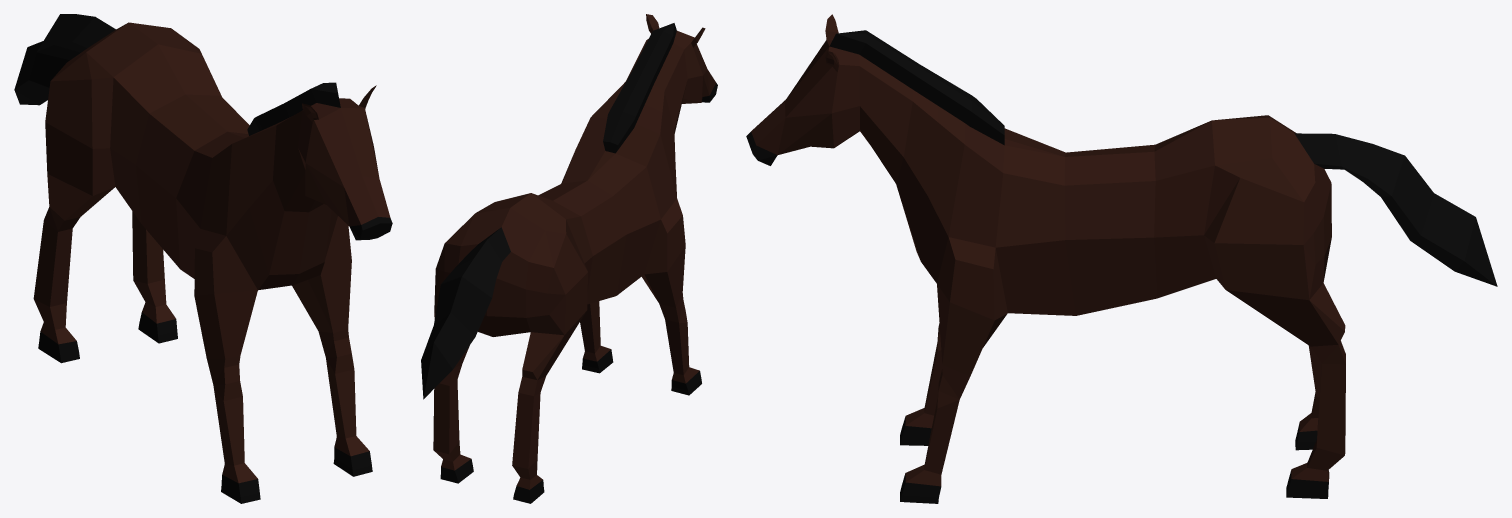
Rendered from Horse_000031.obj.
The picture shows the model from 3 angles, left to right: view 1: azimuth 30°, elevation 25°; view 2: azimuth 150°, elevation 25°; view 3: azimuth 270°, elevation 25°; orthographic projection. The views are drawn at different scales.
Parts seen in each view (by area): view 1: Horse_Cylinder; view 2: Horse_Cylinder; view 3: Horse_Cylinder.
Boxes of the visible parts, bbox=[...] form: Horse_Cylinder: bbox=[14, 14, 392, 503]; Horse_Cylinder: bbox=[421, 14, 717, 503]; Horse_Cylinder: bbox=[746, 14, 1497, 503].
Bounding box in the file's own units: 2.56 × 6.62 × 10.32.
